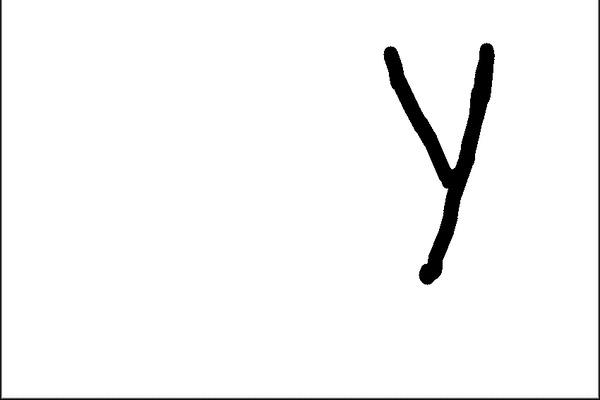Y: (372, 36, 500, 299)
